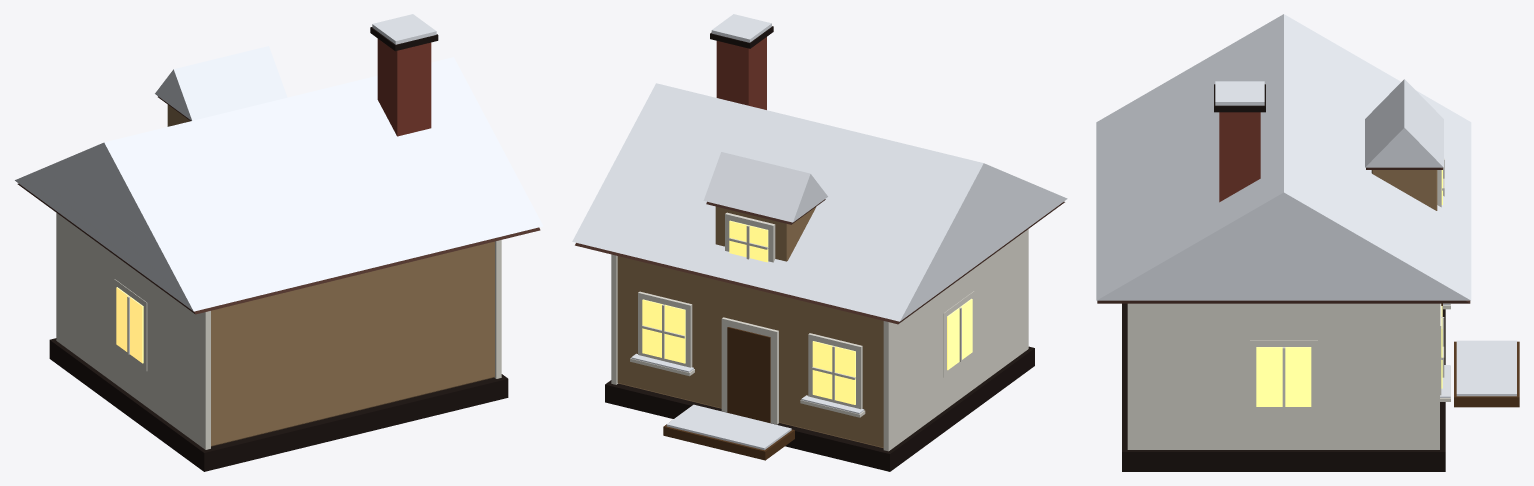
The model's file is HOUSE_cottage.glb.
3 views of the same model, side by side, from view 1: azimuth 30°, elevation 25°; view 2: azimuth 150°, elevation 25°; view 3: azimuth 270°, elevation 25° (orthographic). The views are drawn at different scales.
Parts seen in each view (by area): view 1: House; view 2: House; view 3: House.
Part boxes in pixels (left/top/right/bottom): House: left=15, top=14, right=542, bottom=471; House: left=572, top=14, right=1067, bottom=471; House: left=1096, top=14, right=1519, bottom=471.
Size of the model in its own units: 7.7 by 7.17 by 7.72.
